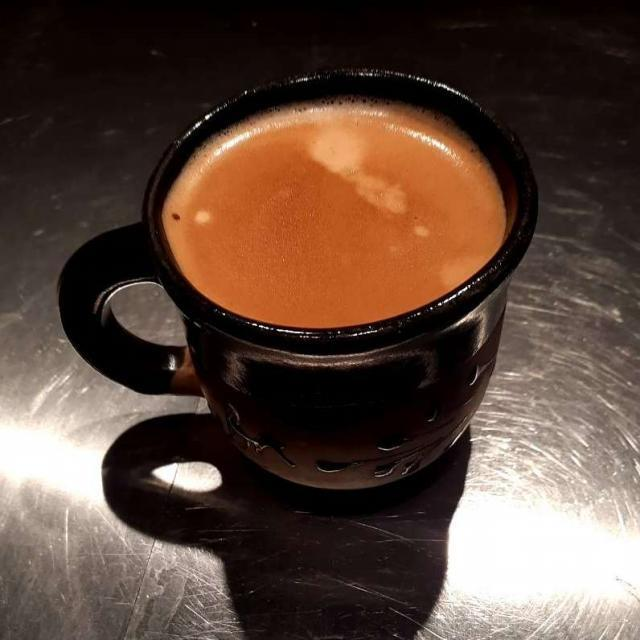coffee: (170, 107, 501, 323)
